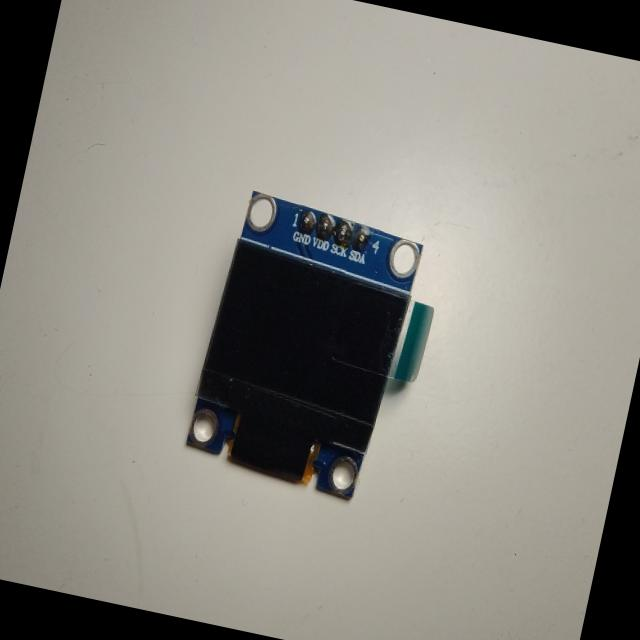oled: (173, 176, 454, 524)
